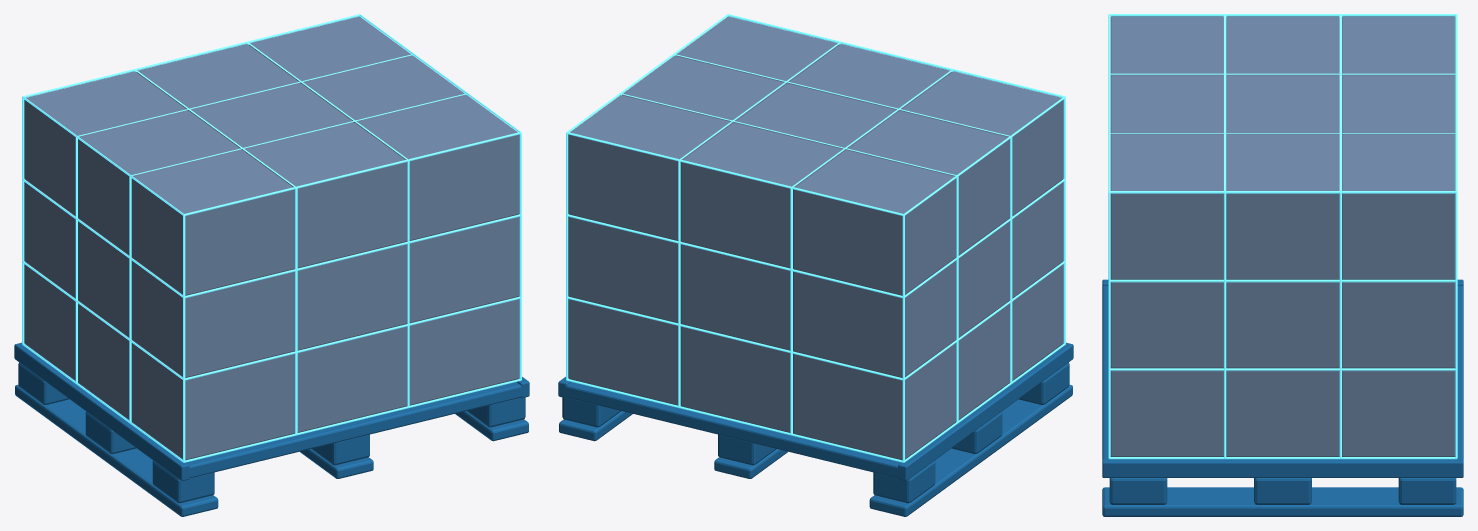
Rendered from SM_Replay_CargoMid.fbx.
3 views of the same model, side by side, from view 1: azimuth 30°, elevation 25°; view 2: azimuth 150°, elevation 25°; view 3: azimuth 270°, elevation 25° (orthographic). The views are drawn at different scales.
Parts seen in each view (by area): view 1: SM_Replay_CargoMid; view 2: SM_Replay_CargoMid; view 3: SM_Replay_CargoMid.
Part boxes in pixels (x1=…): SM_Replay_CargoMid: x1=14, y1=14, x2=529, y2=516; SM_Replay_CargoMid: x1=558, y1=14, x2=1073, y2=516; SM_Replay_CargoMid: x1=1102, y1=14, x2=1463, y2=516.
Size of the model in its own units: 120 by 100 by 98.8.
